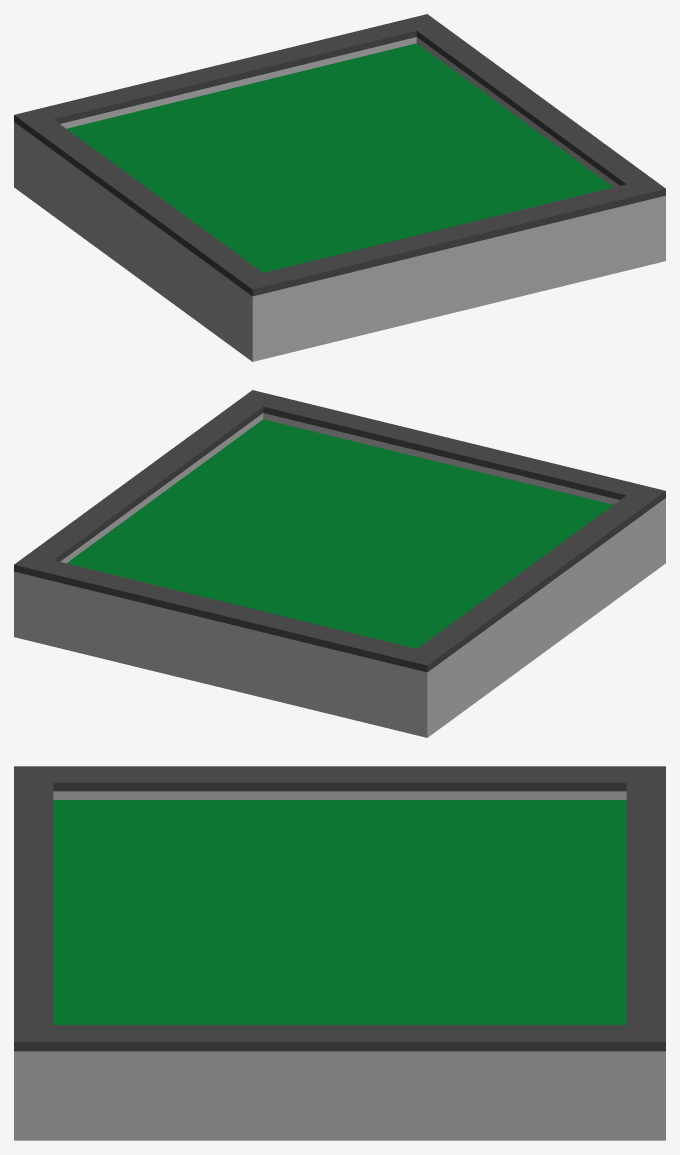
The model's file is Flowerbed-07.fbx.
3 renders of one model, top to bottom at view 1: azimuth 30°, elevation 25°; view 2: azimuth 150°, elevation 25°; view 3: azimuth 270°, elevation 25°, orthographic. The views are drawn at different scales.
Visible parts, largest first — view 1: Flowerbed-07; view 2: Flowerbed-07; view 3: Flowerbed-07.
Part boxes in pixels (x1,y1,x2,y2): Flowerbed-07: [14, 14, 665, 361]; Flowerbed-07: [14, 390, 665, 737]; Flowerbed-07: [14, 766, 665, 1140].
Size of the model in its own units: 2 by 0.335 by 2.
